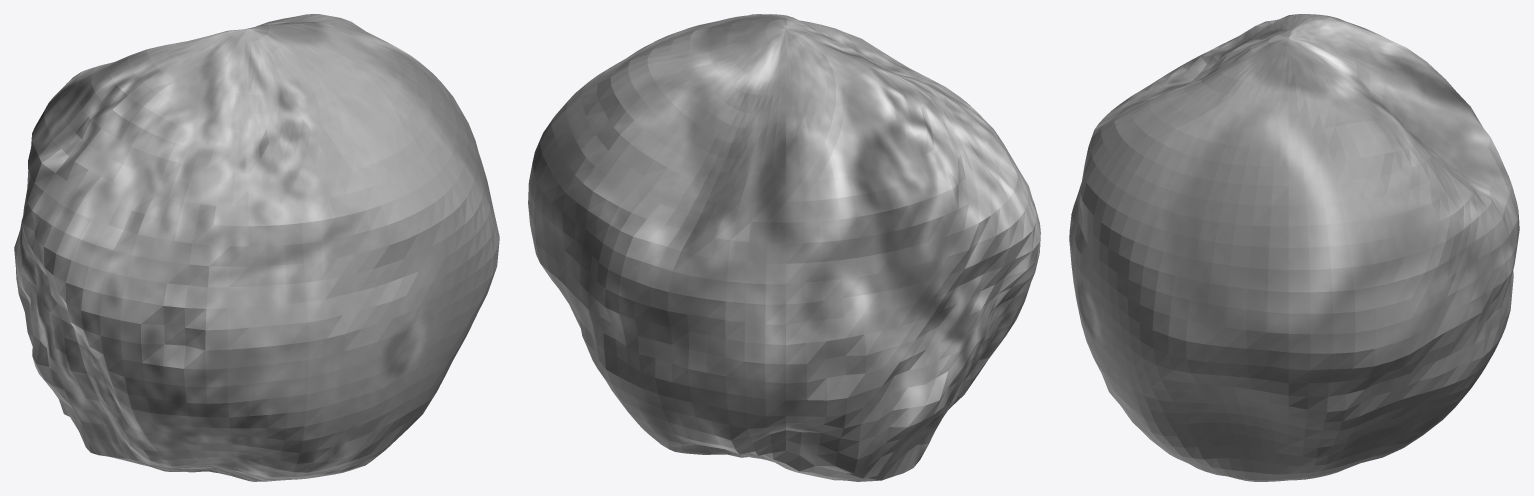
The model's file is proteus.obj.
The picture shows the model from 3 angles, left to right: view 1: azimuth 30°, elevation 25°; view 2: azimuth 150°, elevation 25°; view 3: azimuth 270°, elevation 25°; orthographic projection. The views are drawn at different scales.
Visible parts, largest first — view 1: Object_1; view 2: Object_1; view 3: Object_1.
Boxes of the visible parts, x1,y1,x2,y2 form: Object_1: (14,14,499,481); Object_1: (528,14,1040,481); Object_1: (1069,14,1519,481).
Bounding box in the file's own units: 437 × 411 × 398.
Materials: 1 (1 with a texture image).
